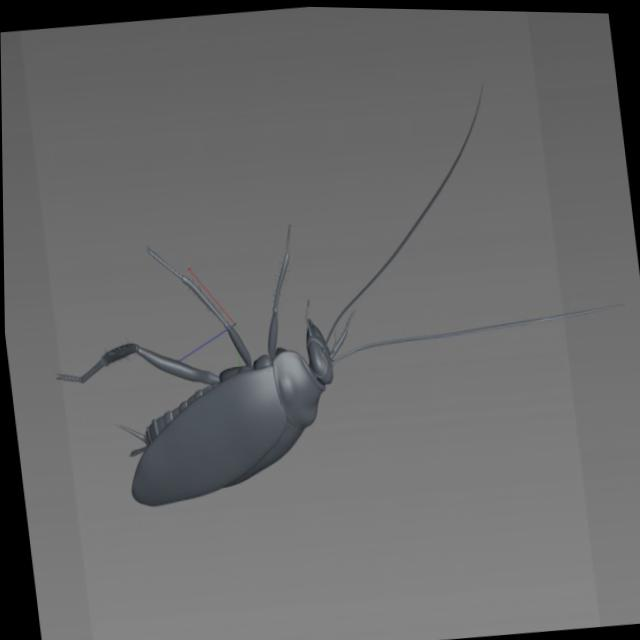Cockroach: (15, 46, 635, 532)
